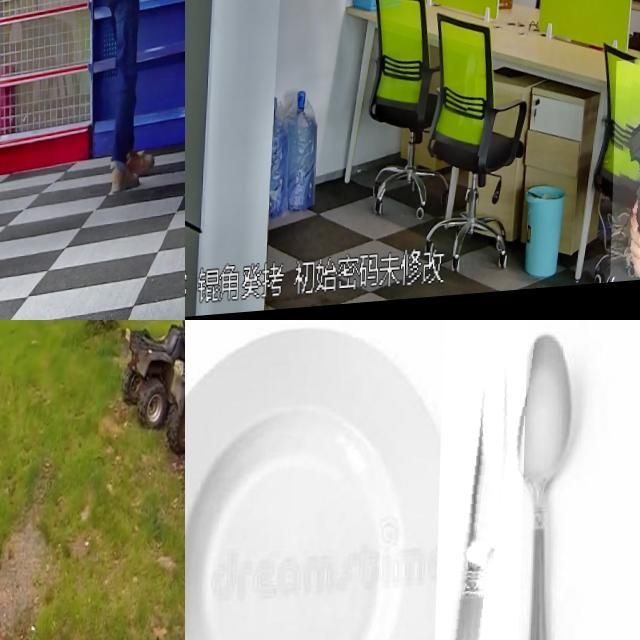-: (434, 320, 529, 640)
gun-knife-thesis - v11 Yolov5 augmented: (0, 342, 60, 610), (614, 62, 640, 290), (135, 0, 166, 23)
